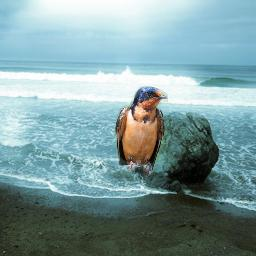Swallow: (115, 86, 168, 177)
